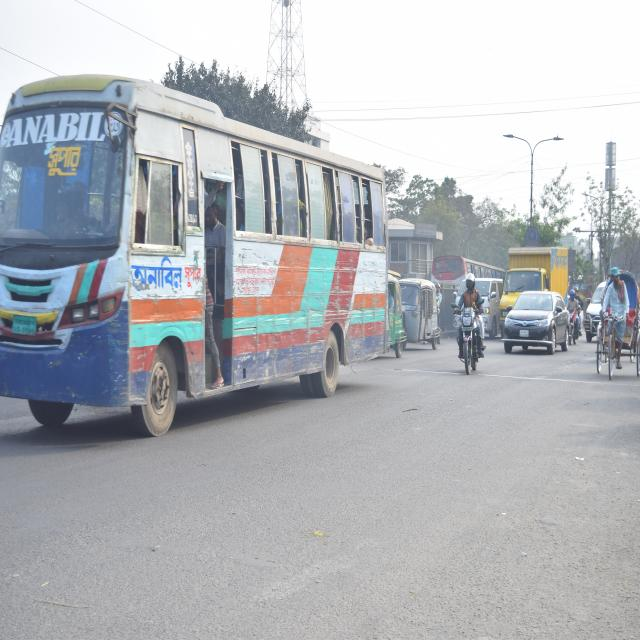bus: (0, 56, 395, 448)
car: (502, 289, 569, 359), (585, 280, 613, 340)
microbus: (455, 271, 502, 332)
motorbike: (451, 290, 485, 382), (564, 293, 584, 346)
pickup-van: (498, 242, 570, 322)
